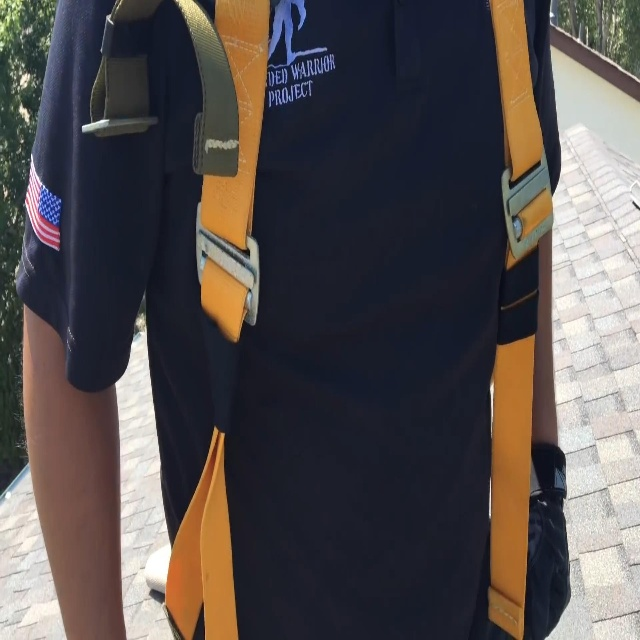Arnes_seguridad: (79, 0, 553, 640)
